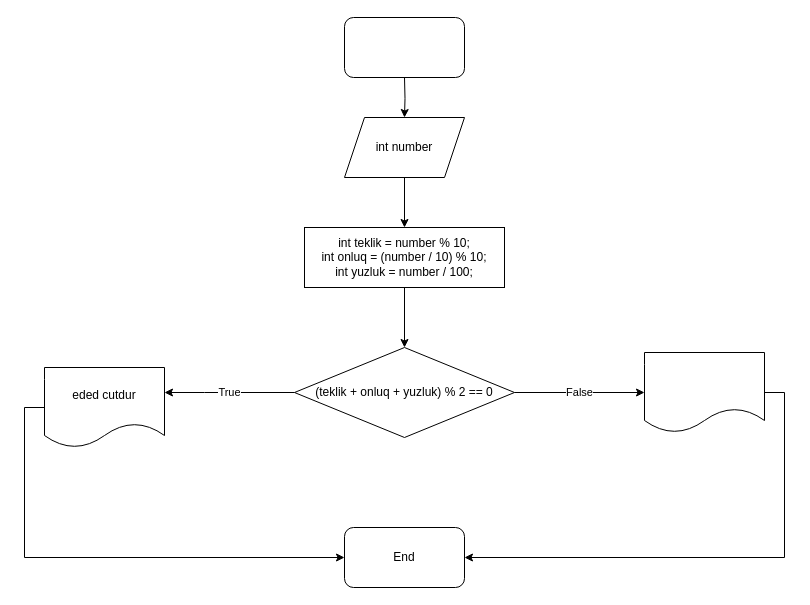
The diagram is 810 pixels wide and 605 high, and some of its shapes have lost their labels. The shapes that lost their labels are listed below. From the top down, each one's centre as x and y in pixels, then its label:
At (x=404, y=47): "Start".
At (x=704, y=392): "eded tekdir".
